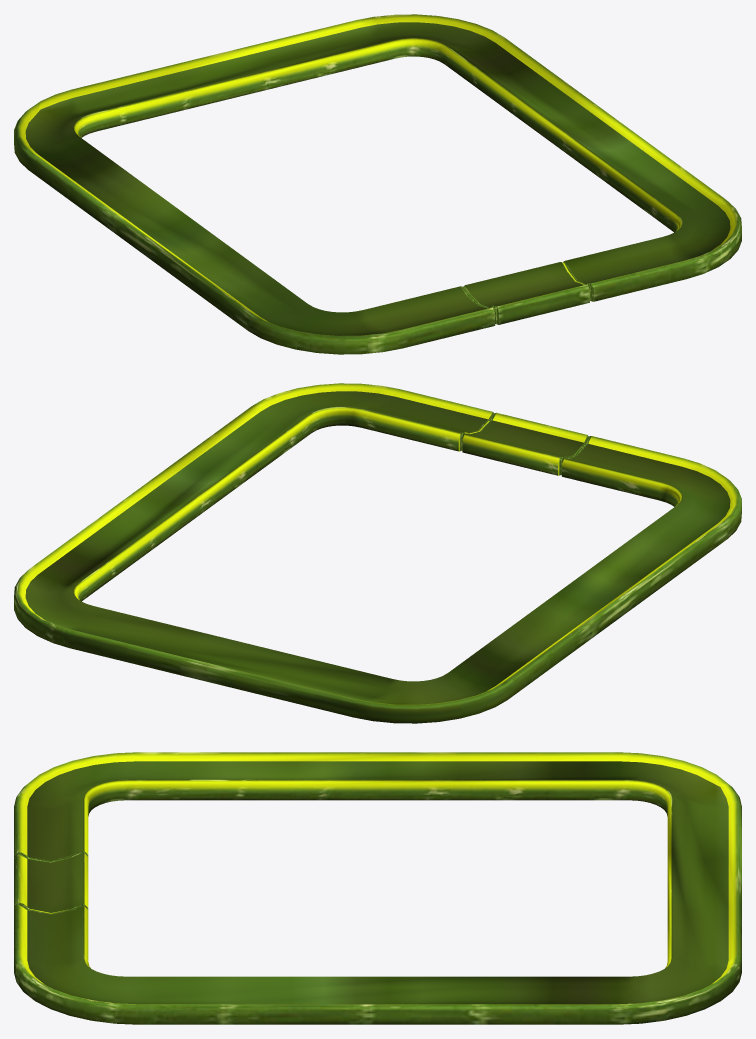
The model's file is haha_2.fbx.
3 renders of one model, top to bottom at view 1: azimuth 30°, elevation 25°; view 2: azimuth 150°, elevation 25°; view 3: azimuth 270°, elevation 25°, orthographic. The views are drawn at different scales.
Parts seen in each view (by area): view 1: WaterBase; view 2: WaterBase; view 3: WaterBase.
Part boxes in pixels (x1,y1,x2,y2): WaterBase: (14, 14, 741, 354); WaterBase: (14, 383, 741, 723); WaterBase: (14, 752, 741, 1024).
Size of the model in its own units: 741 by 25 by 891.
